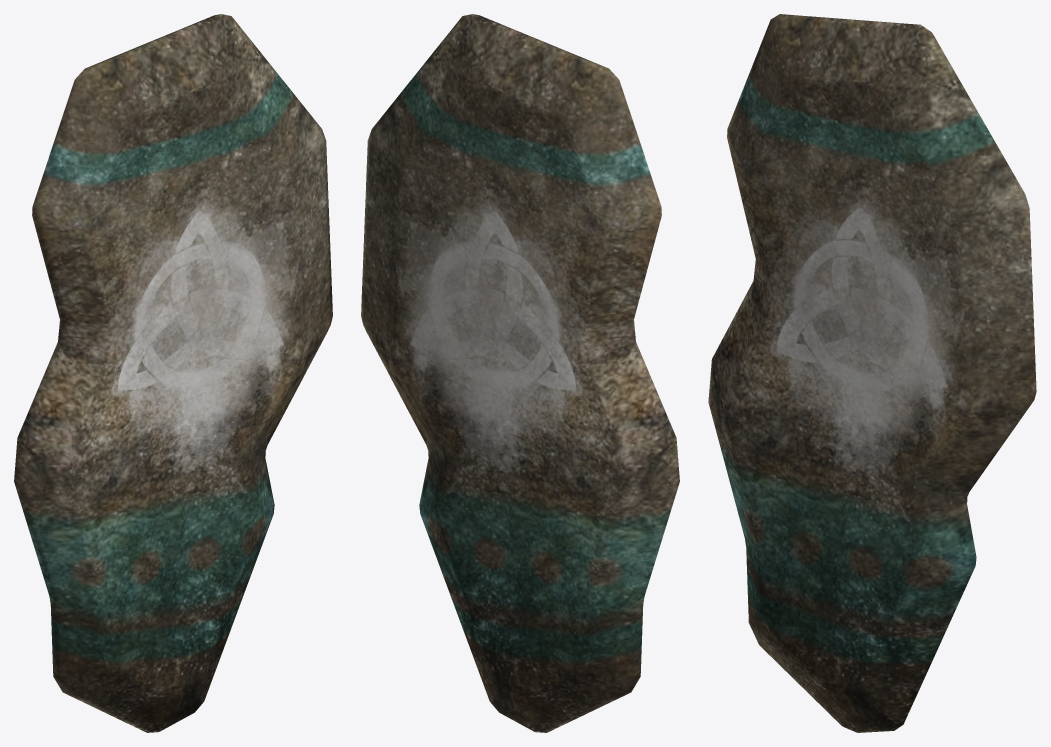
Rendered from Geburtah_Relic.fbx.
3 renders of one model, left to right at view 1: azimuth 30°, elevation 25°; view 2: azimuth 150°, elevation 25°; view 3: azimuth 330°, elevation 25°, orthographic. The views are drawn at different scales.
Visible parts, largest first — view 1: Tipharath_Relic; view 2: Tipharath_Relic; view 3: Tipharath_Relic.
Boxes of the visible parts, box(x1,y1,x2,y2) form: Tipharath_Relic: box(14, 14, 332, 732); Tipharath_Relic: box(361, 14, 679, 732); Tipharath_Relic: box(708, 14, 1036, 732).
Bounding box in the file's own units: 66.45 × 140 × 13.48.
